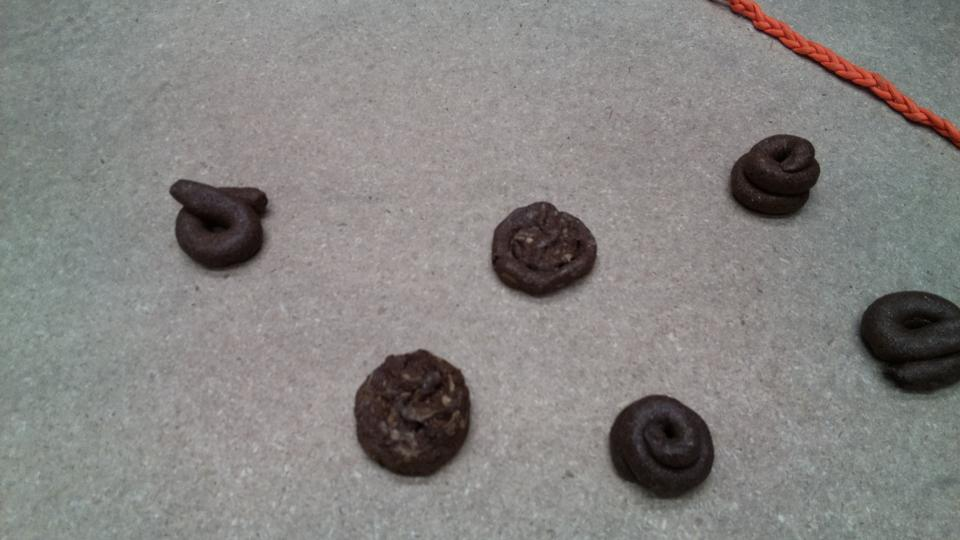poop: (350, 346, 475, 481), (606, 391, 718, 504), (488, 198, 599, 302), (856, 286, 958, 398), (166, 177, 275, 271), (728, 131, 825, 221)
rope: (729, 1, 960, 134)
